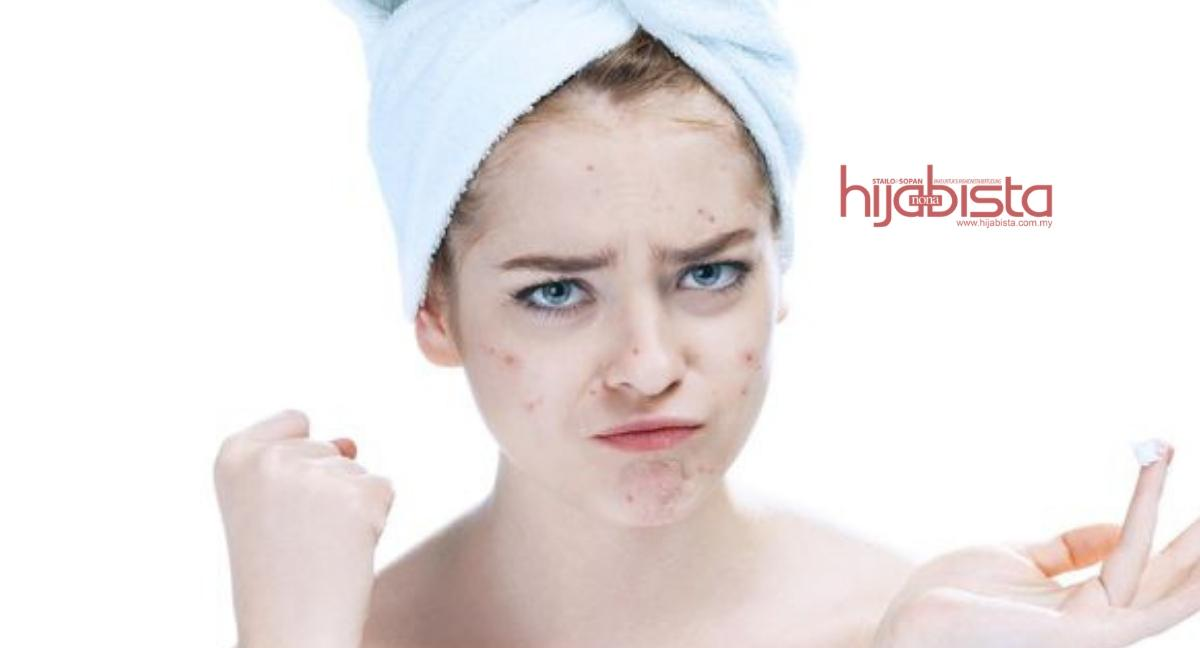Acne: (472, 326, 554, 421), (610, 462, 722, 524), (726, 343, 769, 408), (695, 203, 722, 226), (584, 163, 597, 173), (630, 348, 641, 358)
